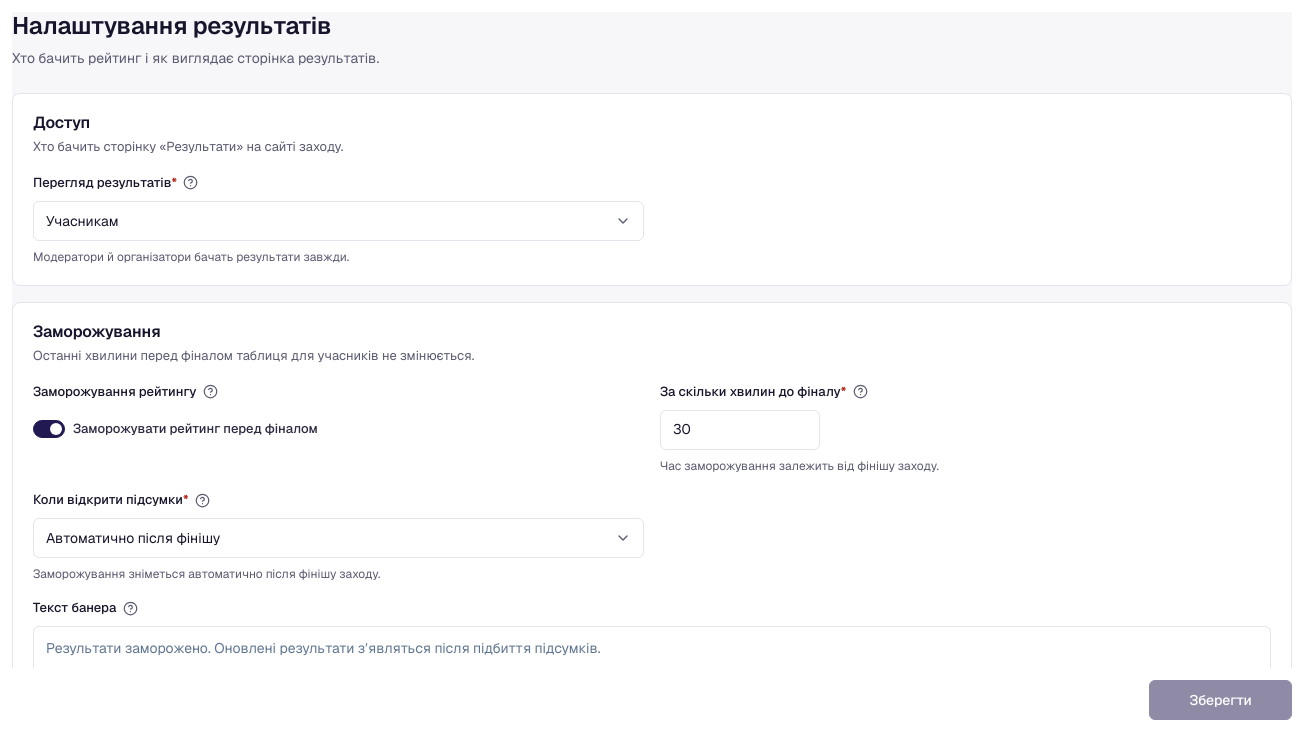
it: Налаштування результатів, збереження без миготіння › only the save button is busy while a save is pending; every field stays enabled and a newer edit survives the answer
Replace the text in the number field labelled "За скільки хвилин до фіналу*" with "20" at (740, 430), box [660,410,820,450]
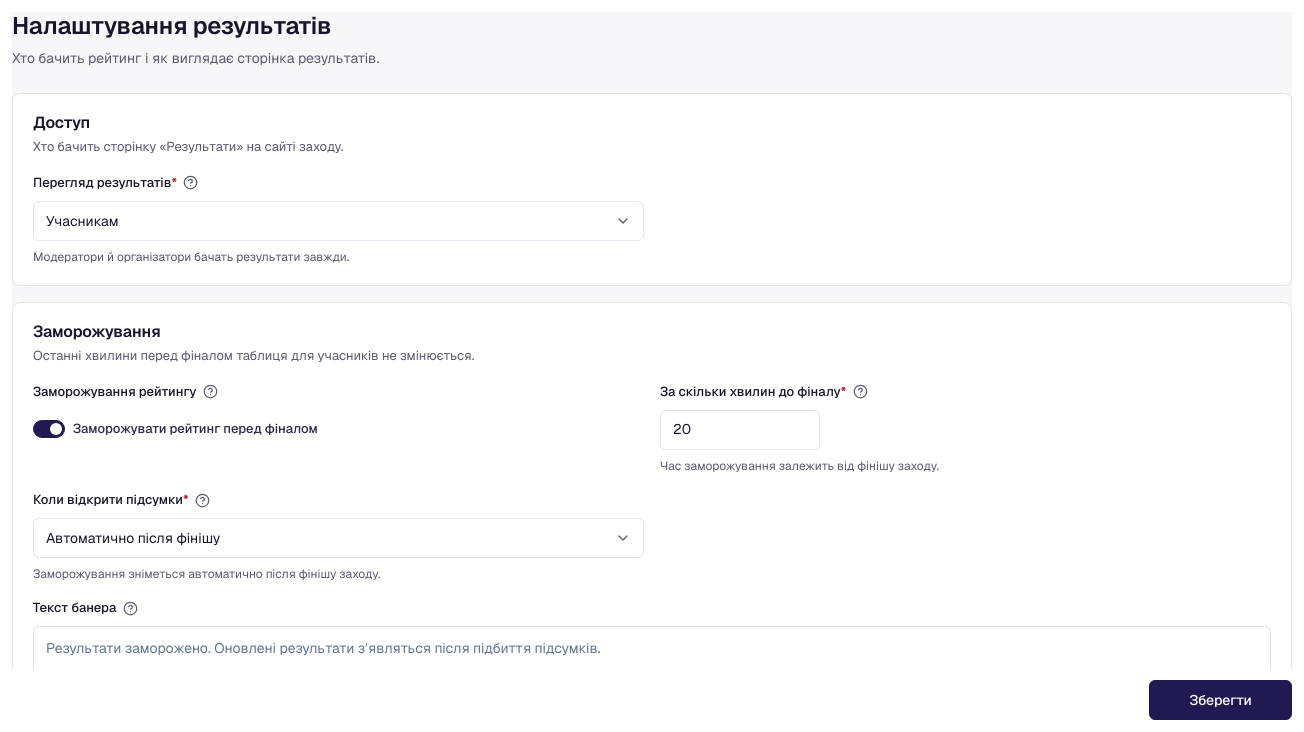
Click the button "Зберегти" at (1221, 700), box [1149,680,1292,720]
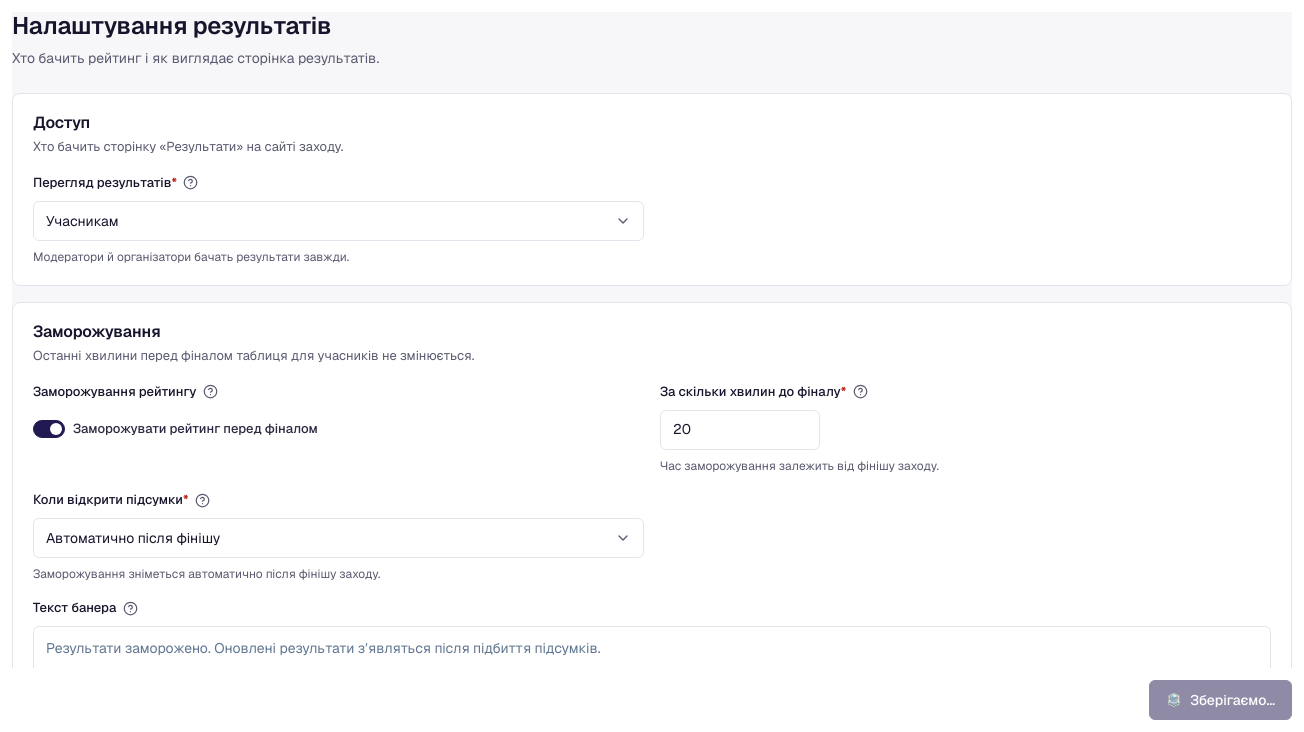
Replace the text in the number field labelled "За скільки хвилин до фіналу*" with "25" at (740, 430), box [660,410,820,450]
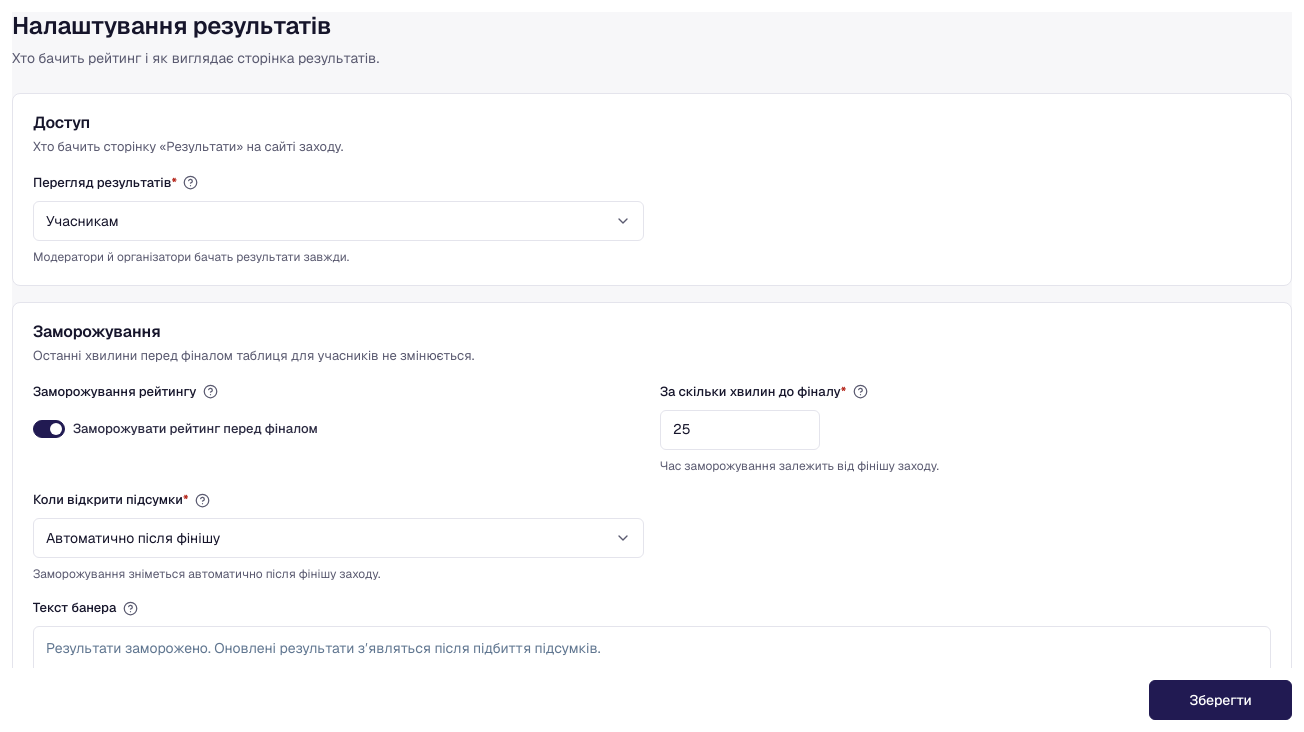
Result: the button "Зберегти" is shown at [1149,680,1292,720]
